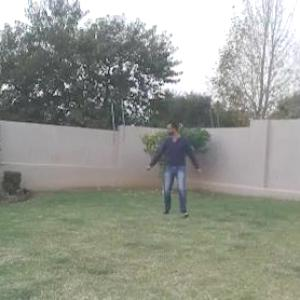land: (140, 103, 222, 232)
